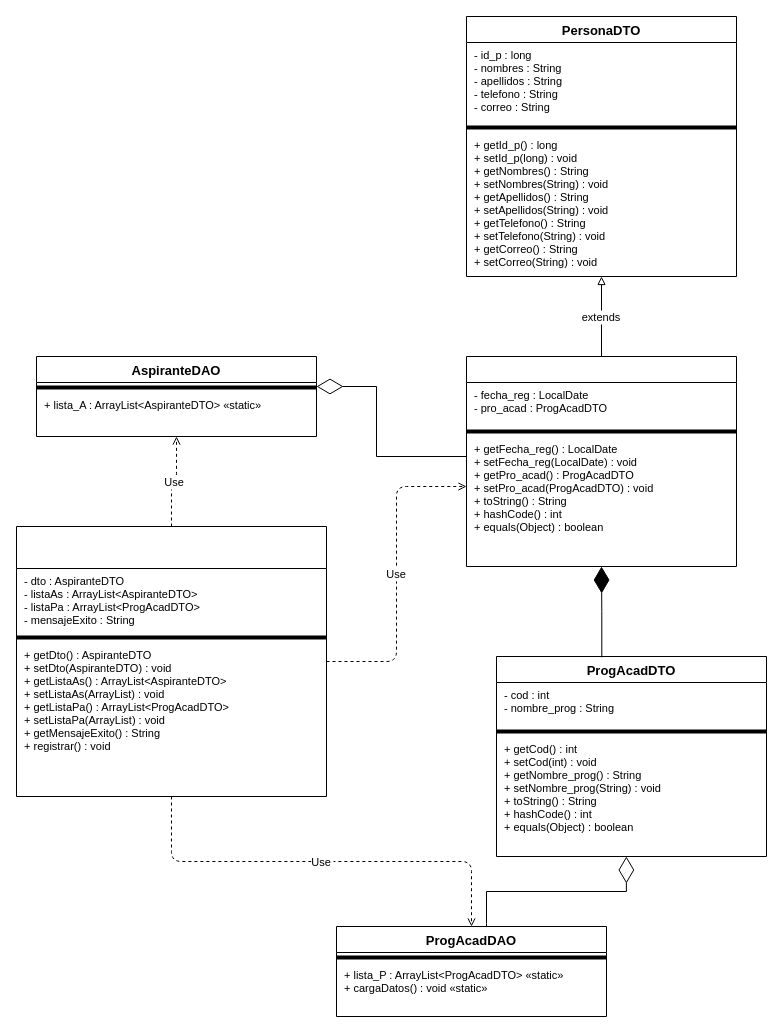
Image size: 783x1033. Some labels were removed from this diagram. The box of each missing label's shape, as (x1, y1, x2, y2) in pixels:
AspiranteBean «@Named("asp") @SessionScoped»: (16, 526, 326, 796)
AspiranteDTO: (466, 356, 736, 566)
